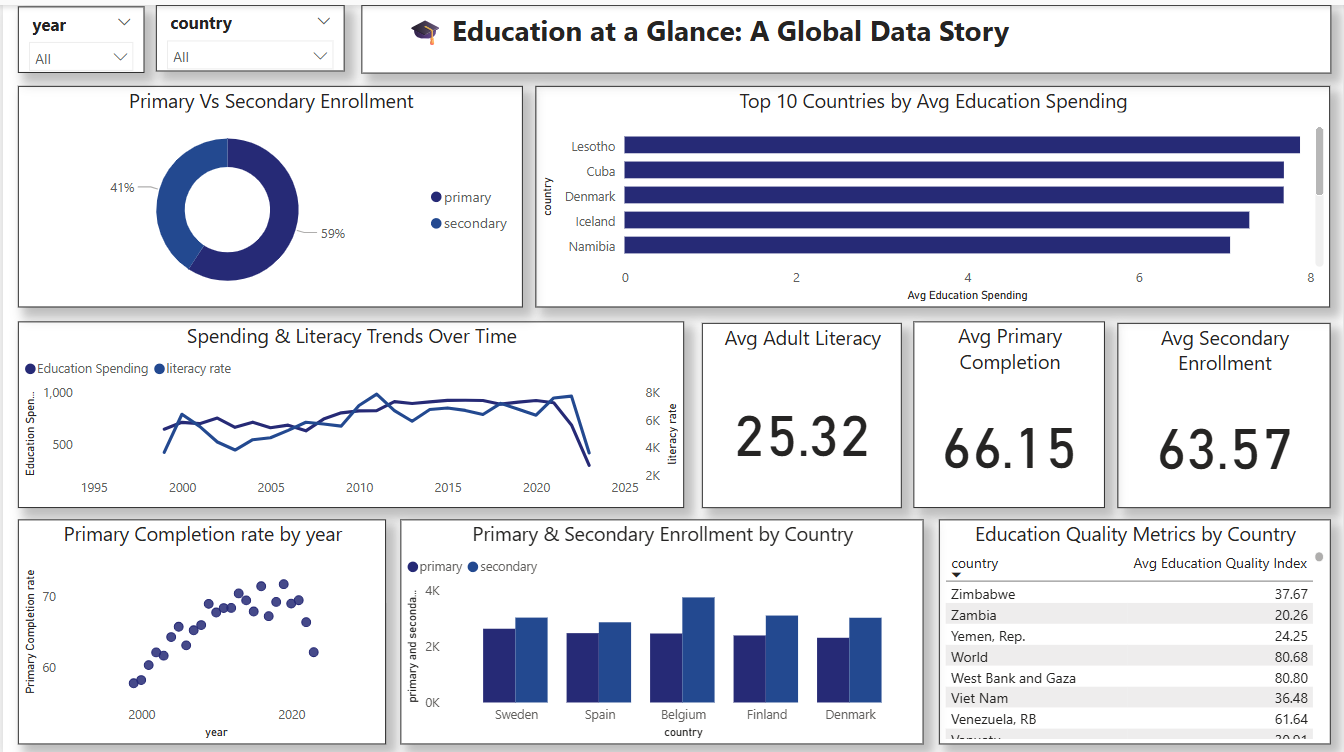

The page's visual inventory and layout, read from the dashboard file:
{"tool":"powerbi","page":{"name":"Overview","canvas":[1280,720],"ordinal":0},"visuals":[{"type":"slicer","fields":{"Values":["world-education-data.year"]},"box":[14.3,1.6,120.9,63.6],"z":0},{"type":"slicer","fields":{"Values":["world-education-data.country"]},"box":[146.3,0,179.7,63.6],"z":1000},{"type":"clusteredBarChart","title":"Top 10 Countries by Avg Education Spending","fields":{"Category":["world-education-data.country"],"Y":["Avg(world-education-data.Education Spending(% of gdp))"]},"box":[509,77.9,758.7,211.6],"z":3000},{"type":"lineChart","title":"Spending & Literacy Trends Over Time","fields":{"Category":["world-education-data.year"],"Y":["Sum(world-education-data.Education Spending(% of gdp))"],"Y2":["Sum(world-education-data.Adult literacy rate(%))"]},"box":[14.3,302.2,636.2,178.1],"z":4000},{"type":"scatterChart","title":"Primary Completion rate by year","fields":{"X":["world-education-data.year"],"Y":["Avg(world-education-data.Primary Completion rate(%))"]},"box":[14.3,491.5,351.5,214.7],"z":5000},{"type":"donutChart","title":"Primary Vs Secondary Enrollment","fields":{"Y":["Sum(world-education-data.school enrollment primary(%))","Sum(world-education-data.school enrollment secondary(%))"]},"box":[14.3,77.9,482,211.6],"z":6000},{"type":"card","title":"Avg Adult Literacy","fields":{"Values":["Avg(world-education-data.Adult literacy rate(%))"]},"box":[668.1,303.8,190.9,176.6],"z":7000},{"type":"card","title":"Avg Primary Completion","fields":{"Values":["Avg(world-education-data.Primary Completion rate(%))"]},"box":[870.1,302.2,182.9,178.1],"z":8000},{"type":"card","title":"Avg Secondary Enrollment","fields":{"Values":["Avg(world-education-data.school enrollment secondary(%))"]},"box":[1064.1,303.8,203.6,176.6],"z":9000},{"type":"tableEx","title":"Education Quality Metrics by Country","fields":{"Values":["world-education-data.country","Avg(world-education-data.Education Quality Index)"]},"box":[893.9,491.5,373.8,214.7],"z":10000},{"type":"clusteredColumnChart","title":"Primary & Secondary Enrollment by Country","fields":{"Category":["world-education-data.country"],"Y":["Sum(world-education-data.school enrollment primary(%))","Sum(world-education-data.school enrollment secondary(%))"]},"box":[380.2,491.5,499.5,214.7],"z":11000},{"type":"textbox","box":[342,0,925.7,65.2],"z":12000}]}

Visuals, with their boxes in screenshot pixels (x1, y1, x2, y2), scaled from the page's 1280x720 canvas onto the 1344x752 screenshot:
slicer - world-education-data.year: bbox=(15, 2, 142, 68)
slicer - world-education-data.country: bbox=(154, 0, 342, 66)
"Top 10 Countries by Avg Education Spending" clusteredBarChart: bbox=(534, 81, 1331, 302)
"Spending & Literacy Trends Over Time" lineChart: bbox=(15, 316, 683, 502)
"Primary Completion rate by year" scatterChart: bbox=(15, 513, 384, 738)
"Primary Vs Secondary Enrollment" donutChart: bbox=(15, 81, 521, 302)
"Avg Adult Literacy" card: bbox=(702, 317, 902, 502)
"Avg Primary Completion" card: bbox=(914, 316, 1106, 502)
"Avg Secondary Enrollment" card: bbox=(1117, 317, 1331, 502)
"Education Quality Metrics by Country" tableEx: bbox=(939, 513, 1331, 738)
"Primary & Secondary Enrollment by Country" clusteredColumnChart: bbox=(399, 513, 924, 738)
textbox: bbox=(359, 0, 1331, 68)
